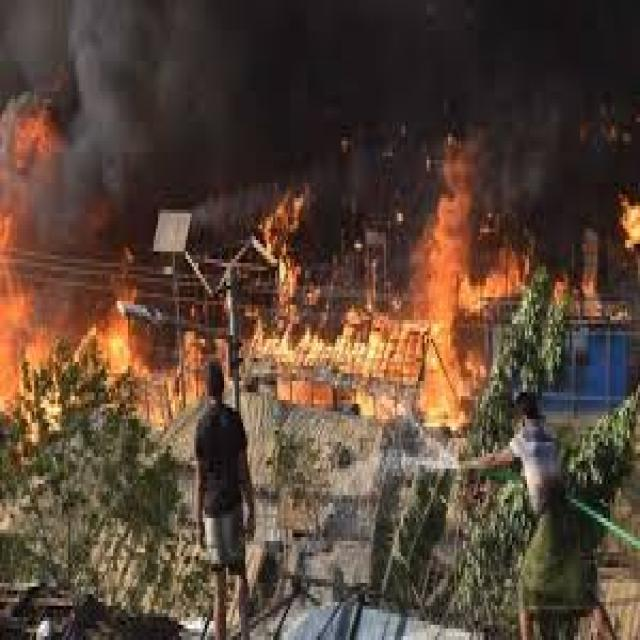Fire: (284, 164, 480, 394), (0, 97, 45, 405), (86, 296, 200, 414), (613, 196, 640, 294)
Smoke: (1, 0, 367, 279), (368, 8, 640, 246)
